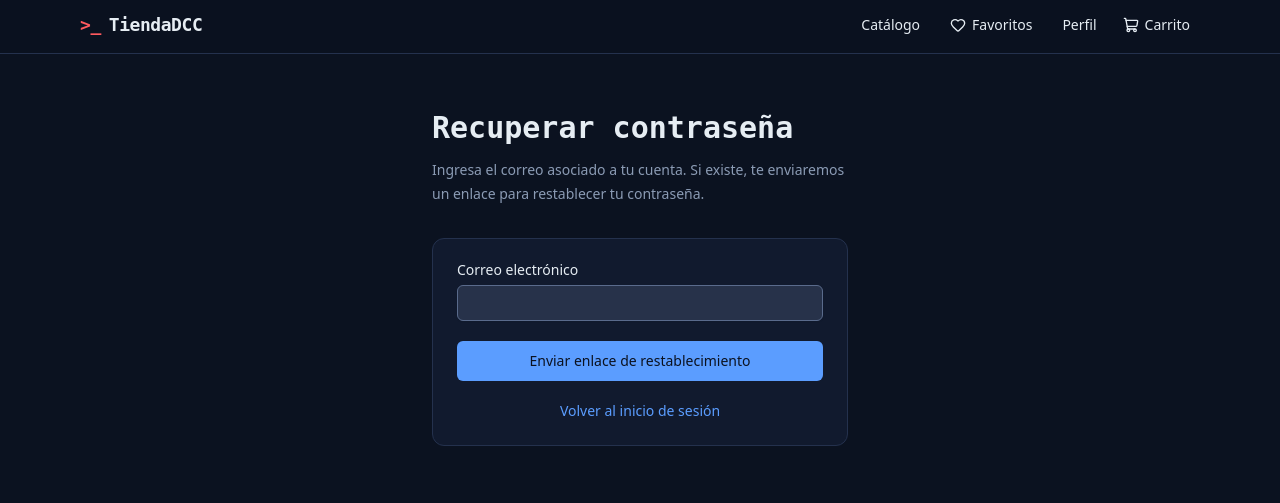
ForgotPasswordPage › shows a network error and retries without losing the email
In the field labelled "Correo electrónico": (640, 303) [457,285,823,321], type "ana@example.com"
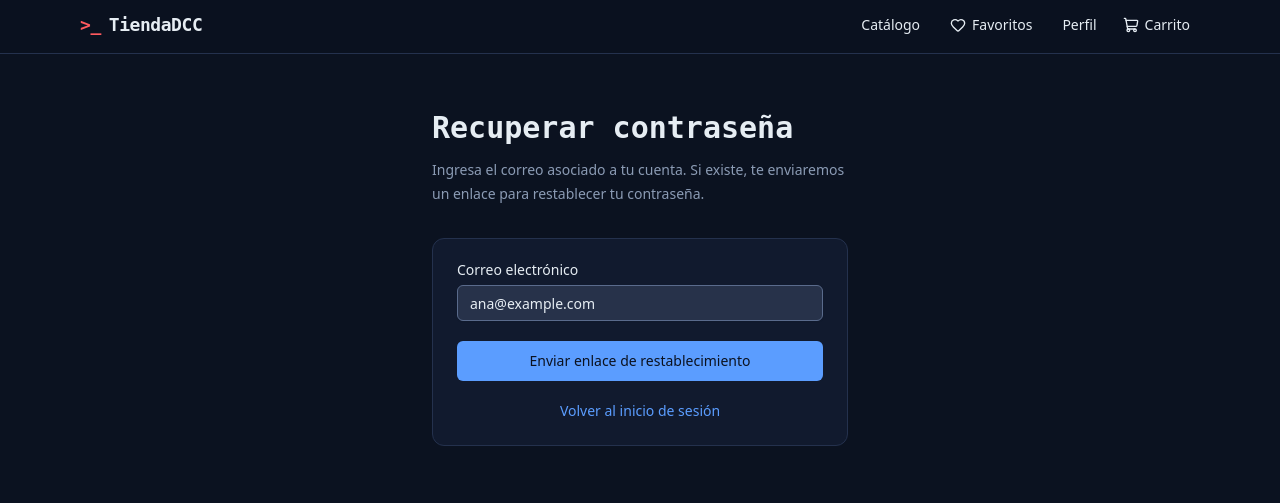
Click the button "Enviar enlace de restablecimiento": click(640, 361) [457,341,823,381]
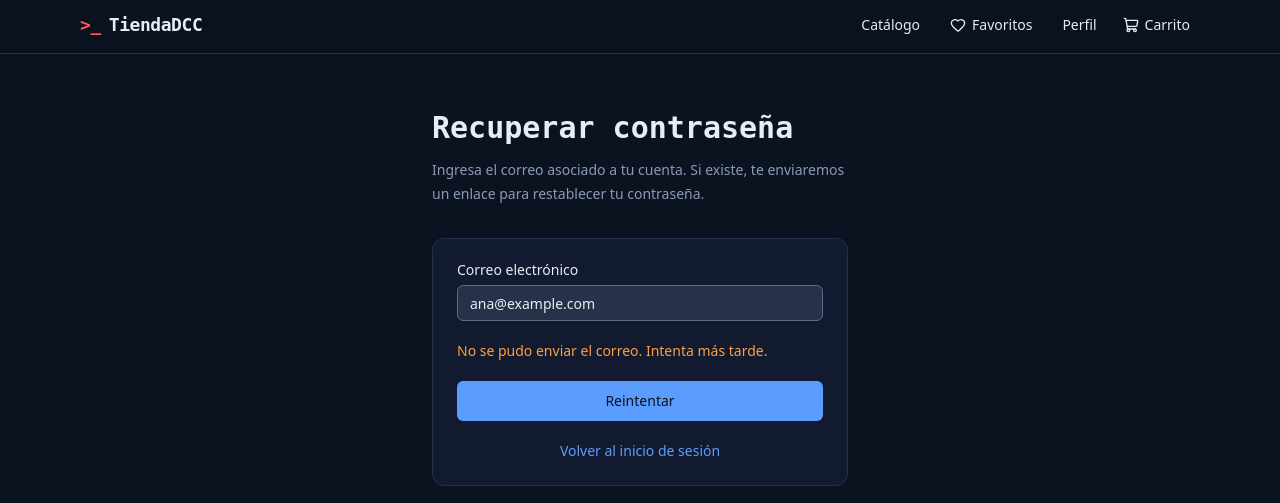
Expected: the message reads "No se pudo enviar el correo. Intenta más tarde.", [457,341,767,360]
